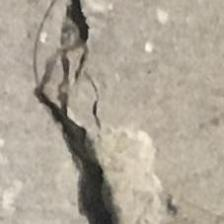Crack: (20, 0, 145, 224)
